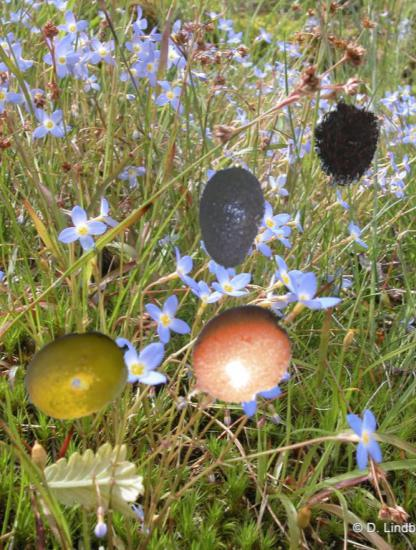Avocado: (177, 163, 284, 270)
Granadilla: (159, 291, 301, 433)
Maracuja: (22, 317, 136, 431)
Rambutan: (300, 95, 396, 191)
